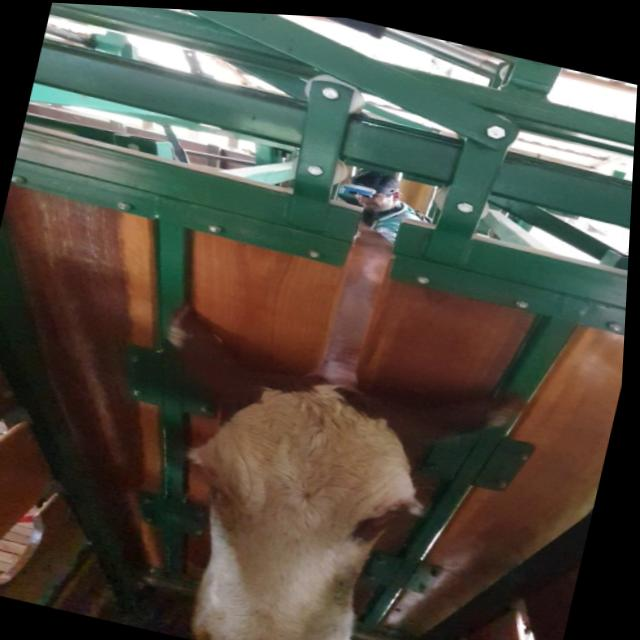cowFace: (165, 356, 436, 640)
